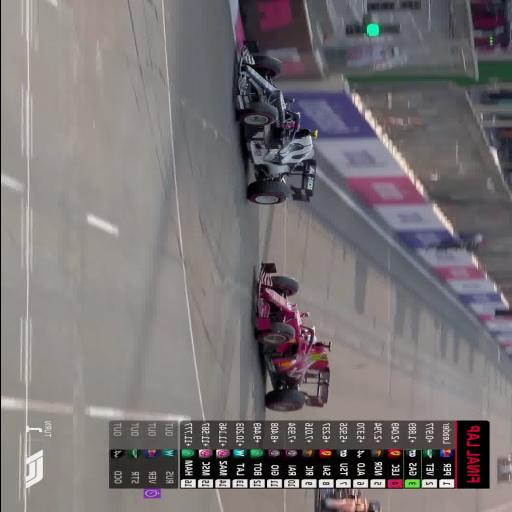f1_car: (236, 42, 316, 205), (256, 263, 330, 412), (317, 489, 381, 512), (497, 454, 512, 483)
